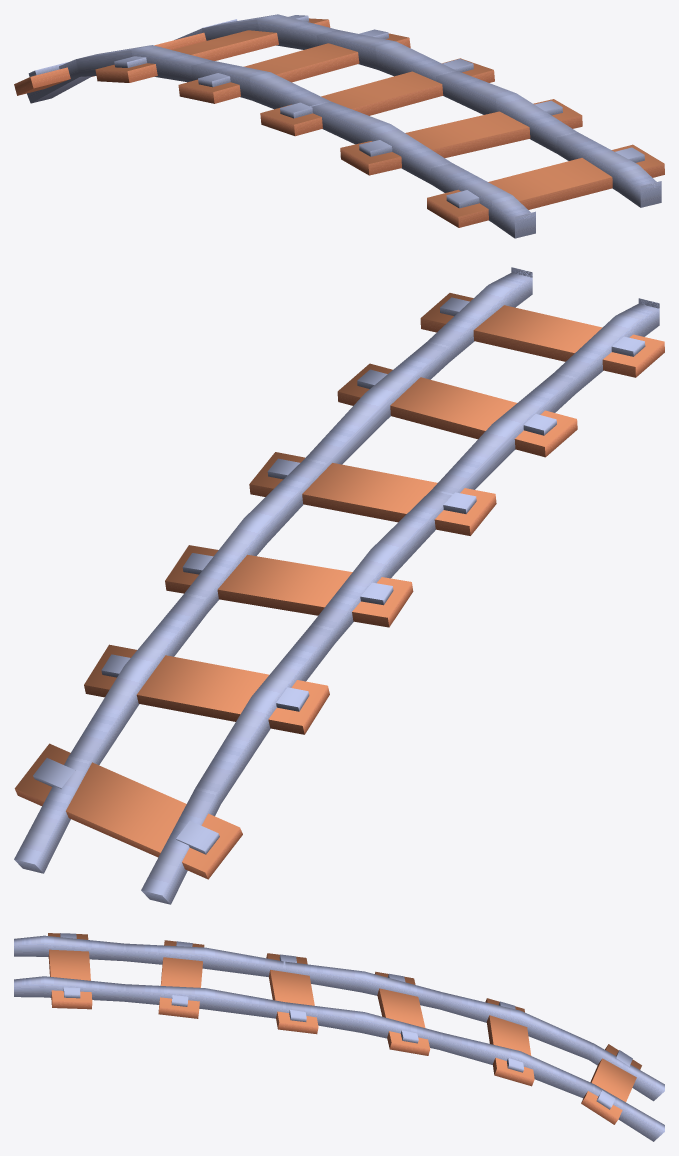
The model's file is railroad-damaged-straight-hill-end.glb.
3 renders of one model, top to bottom at view 1: azimuth 30°, elevation 25°; view 2: azimuth 150°, elevation 25°; view 3: azimuth 270°, elevation 25°, orthographic. The views are drawn at different scales.
Parts seen in each view (by area): view 1: railroad-damaged-straight-hill-end; view 2: railroad-damaged-straight-hill-end; view 3: railroad-damaged-straight-hill-end.
Part boxes in pixels (x1,y1,x2,y2): railroad-damaged-straight-hill-end: (14,14,664,238); railroad-damaged-straight-hill-end: (14,267,664,904); railroad-damaged-straight-hill-end: (14,933,664,1141).
Bounding box in the file's own units: 1.03 × 1.1 × 4.07.
Materials: 1 (1 with a texture image).
